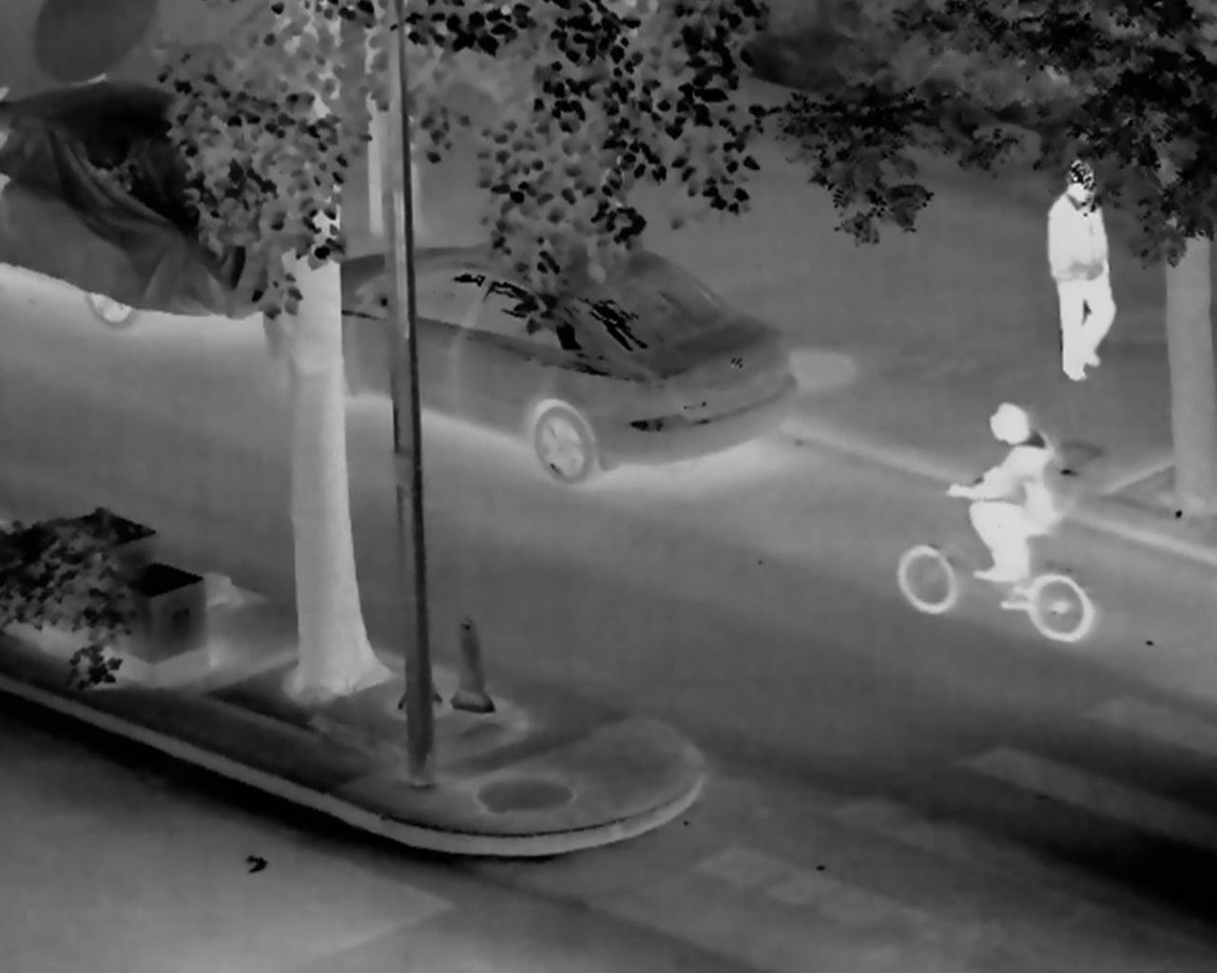person: (944, 402, 1074, 599), (1047, 159, 1115, 379)
